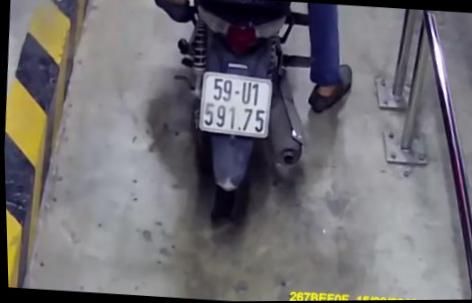LP: (194, 68, 275, 141)
